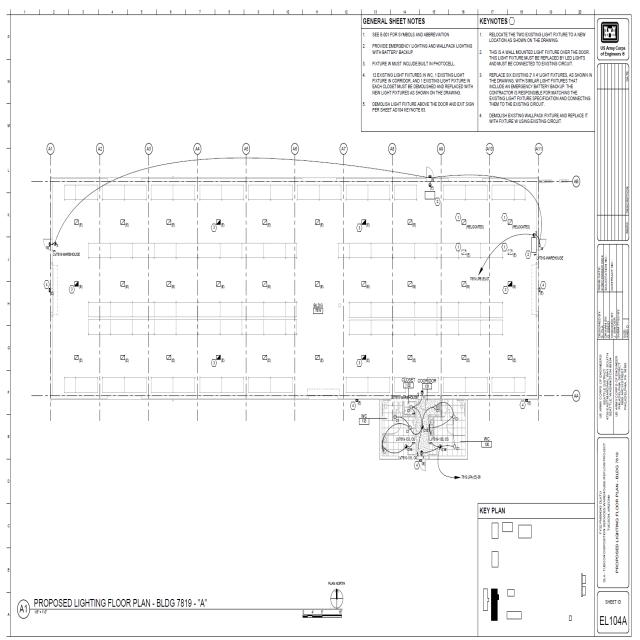Emergency Light: (204, 208, 243, 238), (451, 209, 487, 236), (496, 349, 522, 369), (351, 213, 373, 234), (400, 214, 420, 236), (254, 216, 277, 234), (113, 275, 133, 295), (506, 220, 534, 234), (499, 275, 519, 294), (356, 350, 377, 368), (70, 274, 86, 297), (166, 271, 180, 297), (212, 276, 230, 296), (404, 276, 422, 296), (313, 347, 327, 372), (456, 348, 474, 367), (164, 351, 181, 371), (457, 274, 471, 296), (256, 278, 273, 296), (505, 248, 523, 264), (314, 279, 327, 301), (424, 181, 449, 192), (72, 352, 86, 370), (348, 396, 366, 408), (212, 352, 230, 363), (165, 215, 178, 230), (407, 353, 420, 368), (117, 352, 132, 365), (360, 277, 372, 293), (71, 217, 85, 230), (458, 248, 473, 260), (258, 353, 276, 363), (214, 216, 226, 230), (316, 213, 324, 234), (526, 232, 540, 242), (403, 443, 413, 455), (452, 440, 460, 455), (120, 219, 130, 230), (419, 386, 427, 399), (47, 284, 53, 300), (537, 280, 541, 301), (426, 172, 434, 181), (52, 241, 61, 249), (432, 404, 439, 414), (407, 423, 414, 433), (437, 440, 444, 450), (525, 398, 532, 408), (392, 414, 400, 422), (451, 414, 458, 423), (419, 458, 426, 466), (410, 403, 413, 412), (410, 404, 414, 410)
